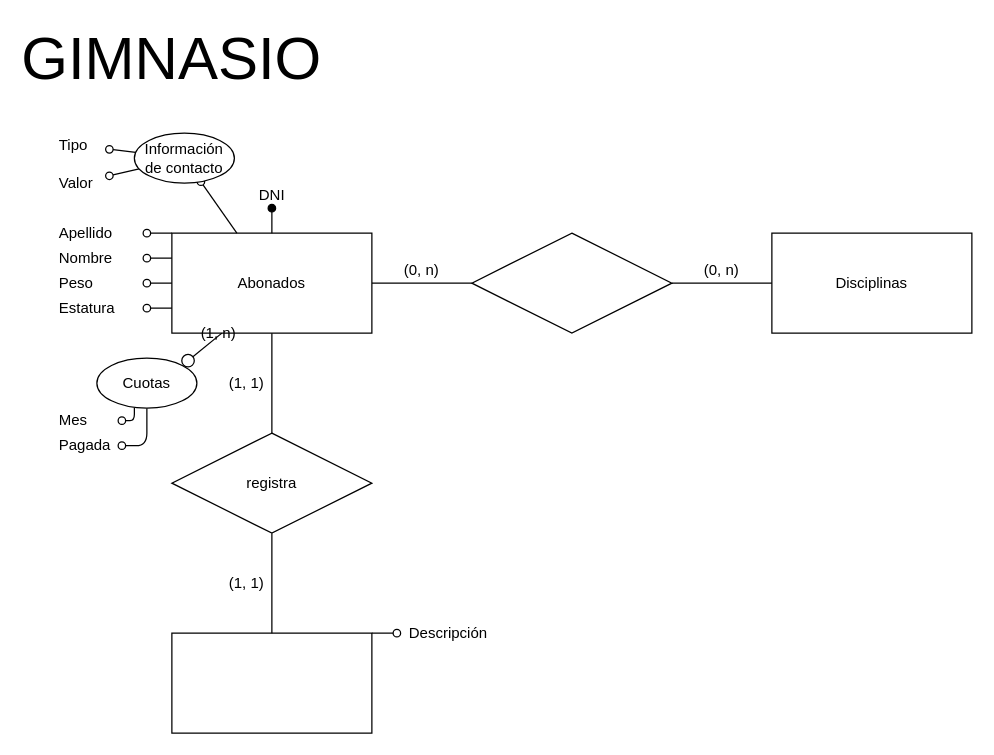
Some shapes in this 994 by 755 pixel diagram are drawn without their labels. The centre of each missing label's shape, as x and y in pixels:
"Antecedentes médicos" belongs at (271,682).
"practica" belongs at (571,282).
